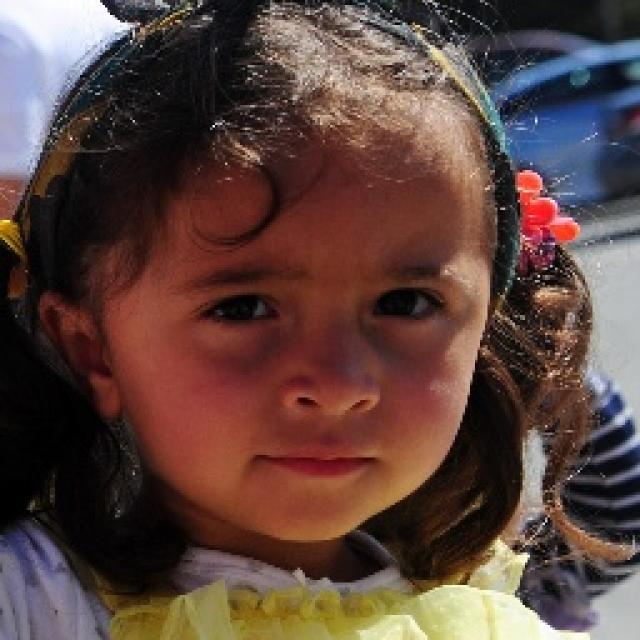earlobe: (80, 368, 122, 422)
eye: (373, 286, 450, 323), (201, 293, 279, 329)
nose: (283, 399, 369, 439)
wholeear: (38, 290, 122, 422)
